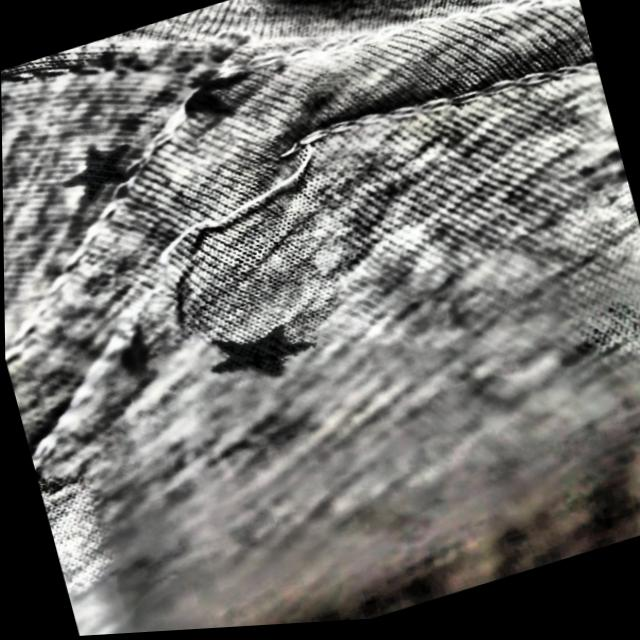Stitch: (87, 115, 389, 309)
